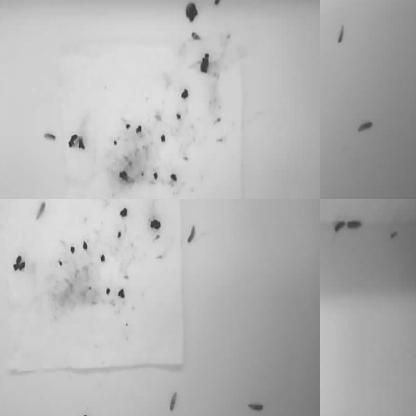PtecticusTenebrifer: (358, 121, 374, 134), (169, 391, 178, 414), (35, 200, 45, 219), (187, 224, 196, 245), (339, 21, 346, 45), (247, 403, 265, 412), (335, 221, 346, 234), (320, 374, 327, 394), (348, 220, 362, 230), (320, 283, 326, 304), (43, 132, 56, 141), (214, 0, 224, 10), (320, 122, 328, 134), (320, 239, 327, 252), (0, 81, 8, 92), (0, 293, 4, 314), (320, 347, 327, 359), (320, 0, 327, 11), (320, 380, 323, 404), (320, 406, 327, 416), (334, 0, 340, 11), (320, 408, 328, 416), (320, 0, 327, 8), (320, 231, 325, 242), (320, 224, 326, 233), (320, 0, 327, 7), (320, 404, 324, 416), (83, 412, 93, 416), (88, 199, 98, 203), (320, 0, 325, 5)
